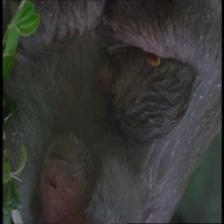monkey: (28, 135, 100, 223), (93, 49, 139, 134)
